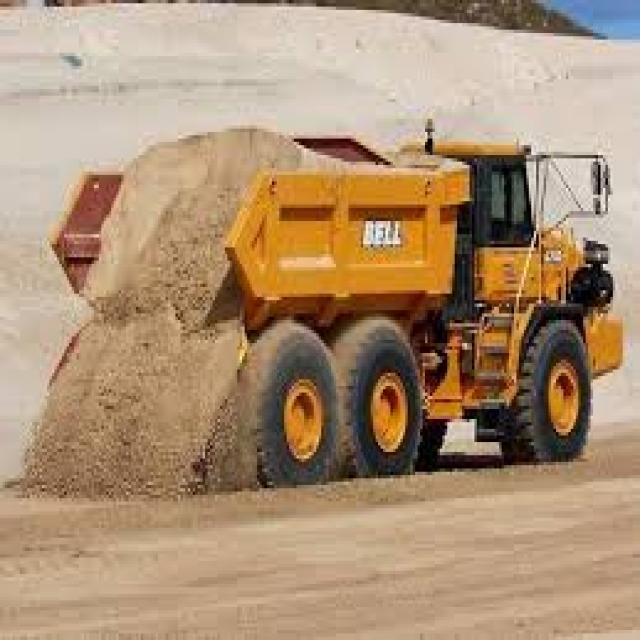dump_truck: (45, 92, 628, 498)
